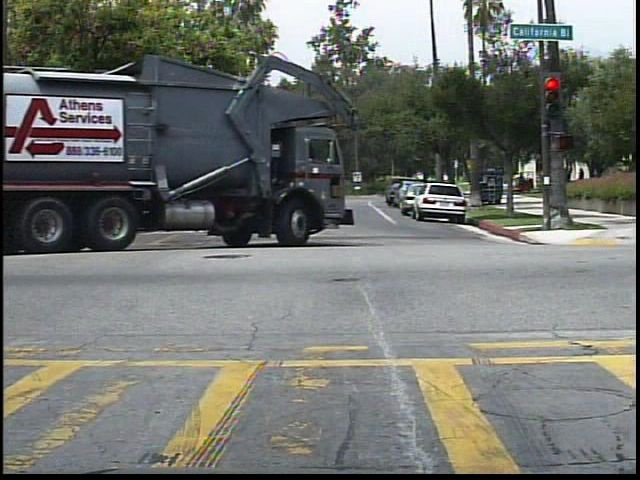person: (573, 163, 592, 194)
